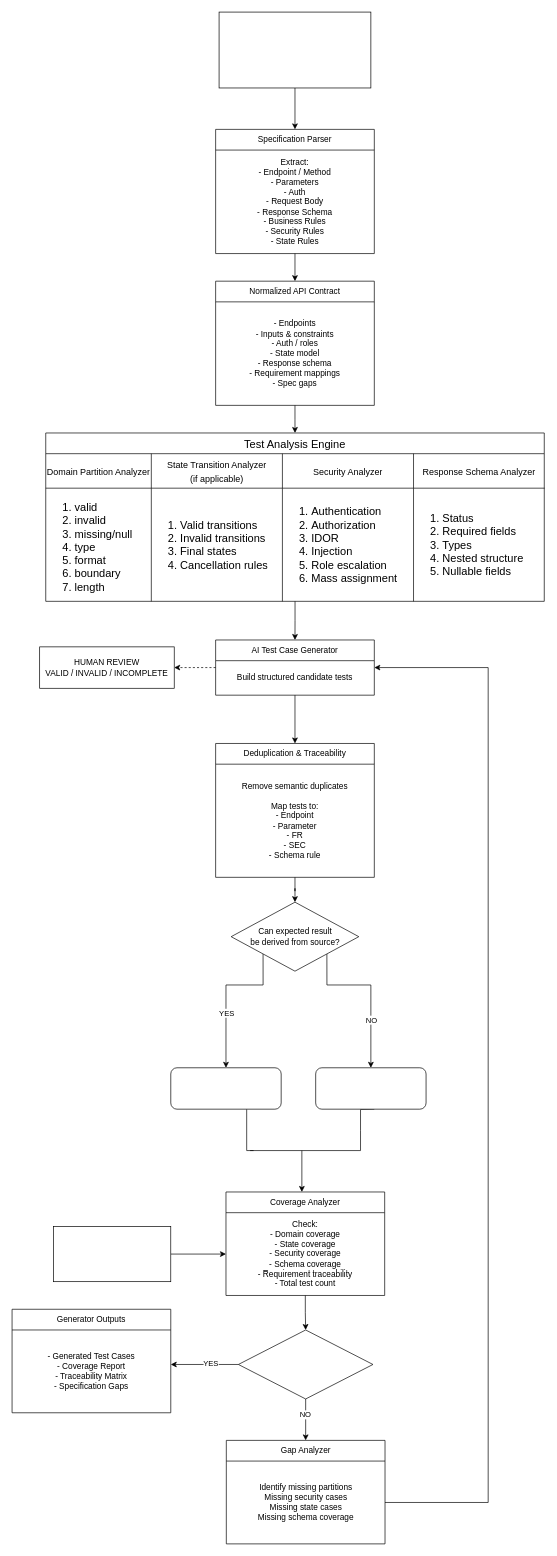
Image size: 557x1556. Some labels were removed from this diagram. Each missing label, with the centre of its shape:
"API Specification Business Requirements Security Requirements" goes at (294,49).
"Coverage sufficient AND Count >= Target" goes at (305,1364).
"Generator Configuration Target cases/API = 35" goes at (112,1254).
"Mark INCOMPLETE + Record specification gap" goes at (370,1088).
"Ready for coverage analysis" goes at (225,1088).
